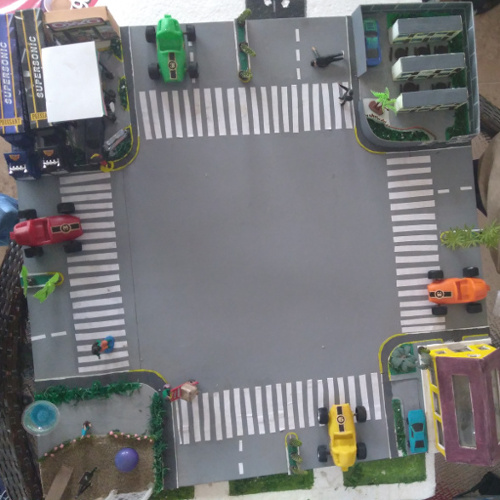amarillo: (313, 403, 366, 470)
naranja: (429, 265, 490, 315)
rojo: (11, 204, 84, 254)
verde: (146, 14, 200, 90)
